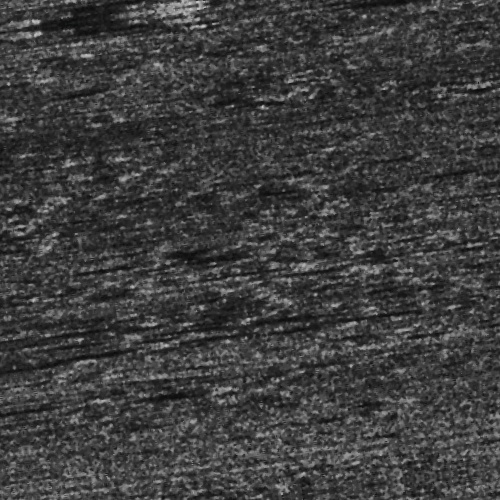object: (176, 0, 249, 19), (437, 6, 500, 21), (165, 0, 270, 4), (110, 327, 163, 332), (480, 14, 500, 27), (40, 0, 81, 5), (403, 328, 444, 331), (0, 264, 5, 269)
shadow: (0, 0, 212, 19), (345, 6, 483, 21), (419, 14, 500, 27), (0, 0, 217, 4), (12, 327, 136, 332), (292, 328, 423, 331), (0, 0, 61, 5), (466, 467, 500, 472)
